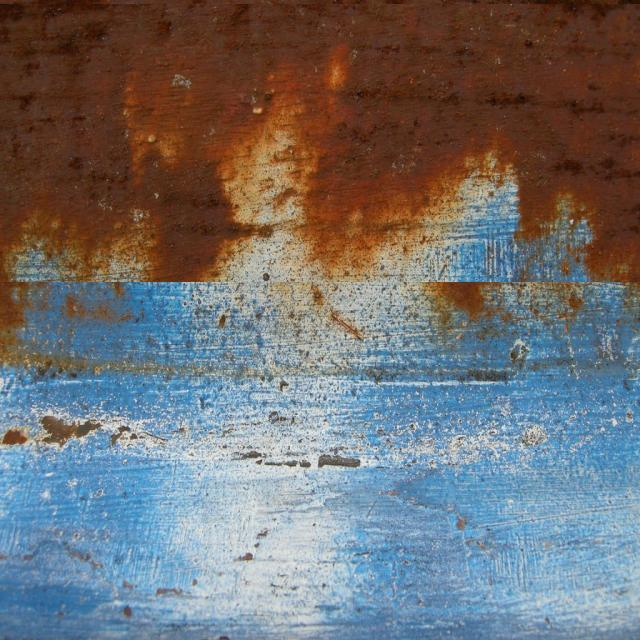Corrosion: (0, 0, 640, 282)
